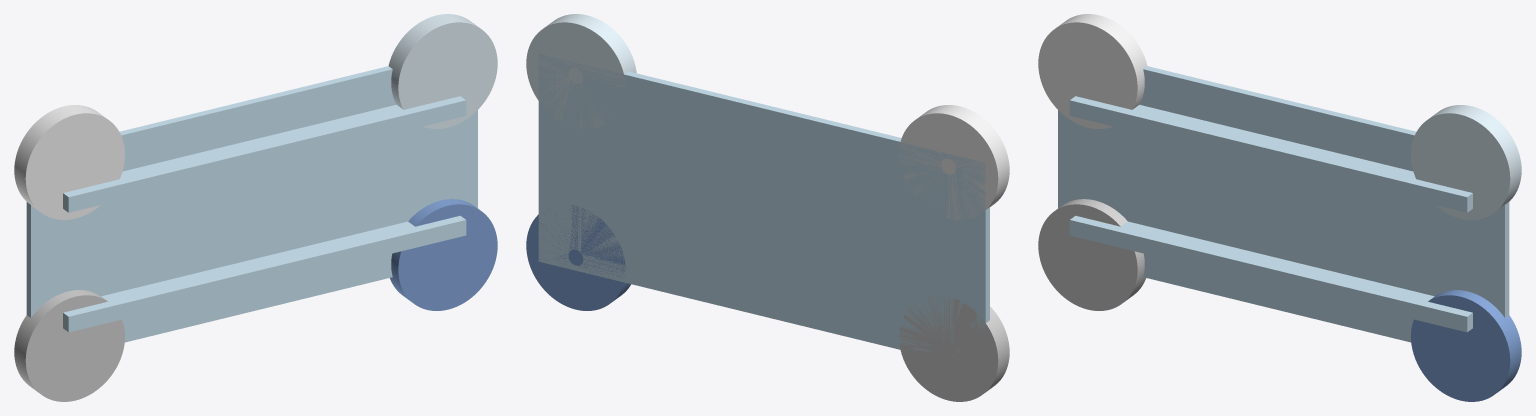
3 views of the same model, side by side, from view 1: azimuth 30°, elevation 25°; view 2: azimuth 150°, elevation 25°; view 3: azimuth 330°, elevation 25° (orthographic).
Parts seen in each view (by area): view 1: Part 1, Part 4, Part 5, Part 2, Part 3; view 2: Part 1, Part 2, Part 4, Part 5, Part 3; view 3: Part 1, Part 5, Part 4, Part 3, Part 2.
Part boxes in pixels (box(x1,y1,x2,y2)): Part 1: box(26, 66, 477, 342); Part 4: box(14, 105, 124, 219); Part 5: box(388, 14, 497, 128); Part 2: box(14, 290, 124, 401); Part 3: box(390, 199, 497, 310); Part 1: box(538, 54, 989, 363); Part 2: box(899, 296, 1009, 401); Part 4: box(899, 105, 1009, 219); Part 5: box(526, 14, 636, 128); Part 3: box(526, 205, 630, 310); Part 1: box(1058, 66, 1509, 342); Part 5: box(1411, 105, 1521, 219); Part 4: box(1038, 14, 1147, 128); Part 3: box(1411, 290, 1521, 401); Part 2: box(1038, 199, 1145, 310).
Size of the model in its own units: 0.19 by 0.11 by 0.012.
